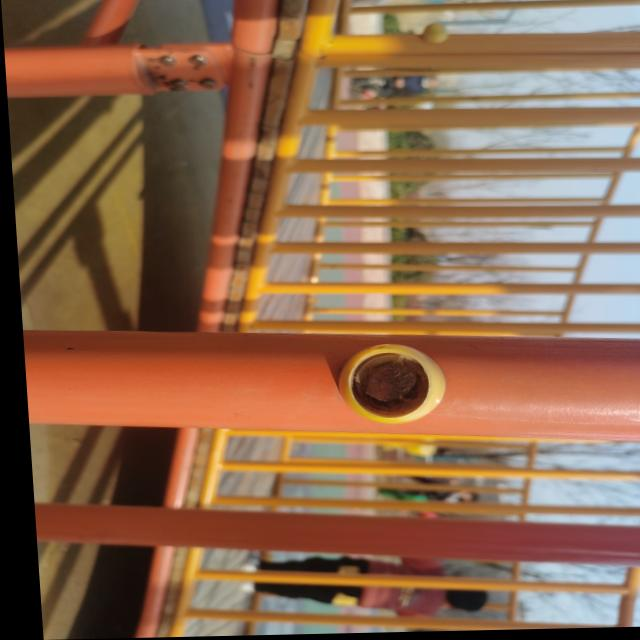Rusty bolt: (359, 364, 417, 410)
